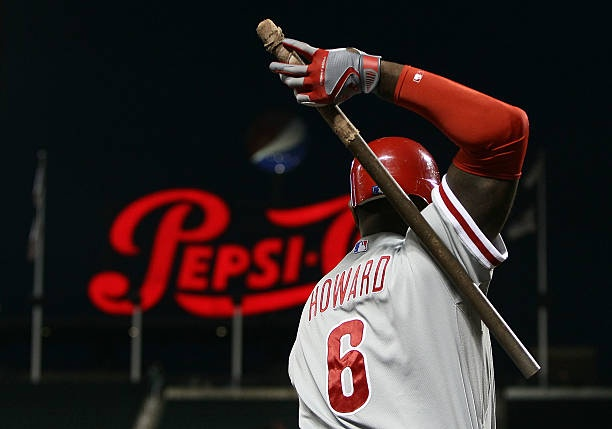bita: (256, 22, 539, 381)
